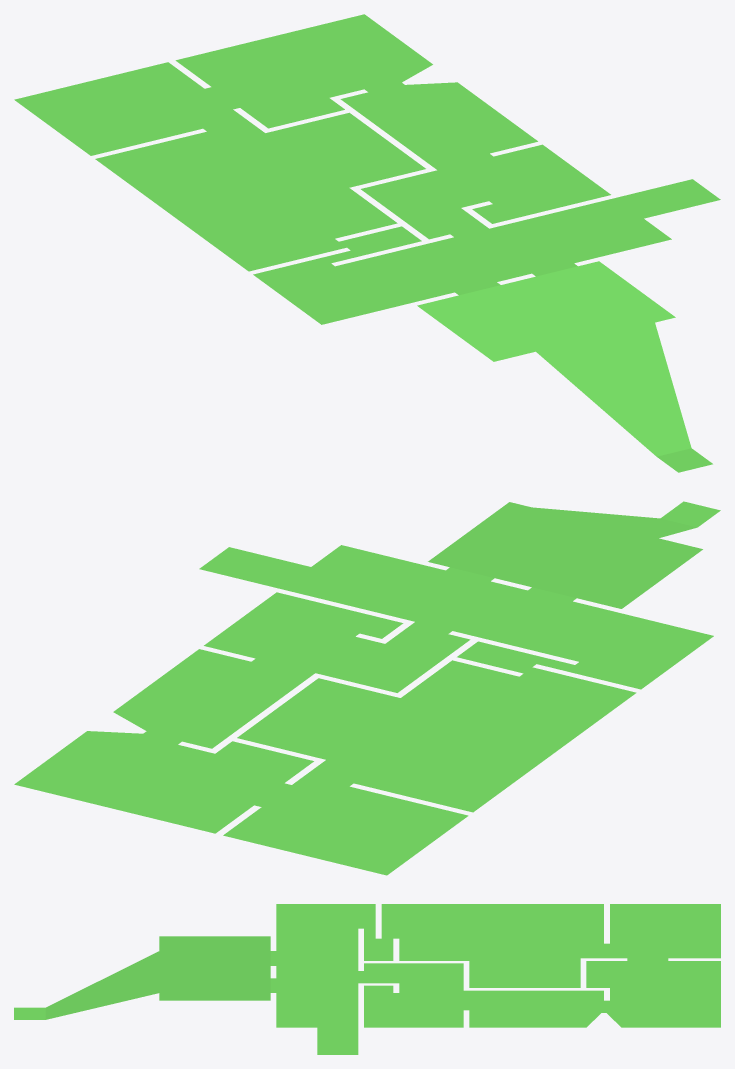
File: nav-mesh.gltf
3 renders of one model, top to bottom at view 1: azimuth 30°, elevation 25°; view 2: azimuth 150°, elevation 25°; view 3: azimuth 270°, elevation 25°, orthographic. The views are drawn at different scales.
Visible parts, largest first — view 1: nav-mesh; view 2: nav-mesh; view 3: nav-mesh.
Boxes of the visible parts, x1,y1,x2,y2 form: nav-mesh: [14, 14, 720, 472]; nav-mesh: [14, 501, 720, 875]; nav-mesh: [14, 904, 720, 1054].
Size of the model in its own units: 30.5 by 3.93 by 60.42.
